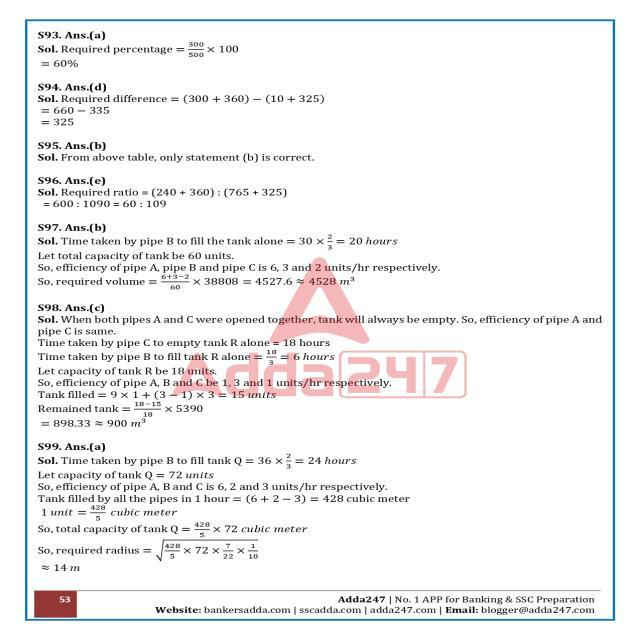Answer_Block: (26, 437, 614, 575), (27, 301, 610, 434), (29, 216, 610, 296), (26, 76, 608, 132), (29, 170, 610, 220), (28, 27, 616, 72), (26, 140, 608, 172)
Question_Paper_Area: (24, 24, 606, 582)
